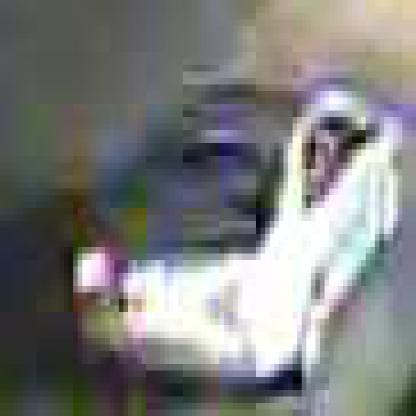car: (60, 73, 399, 391)
